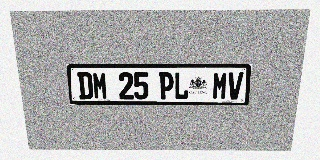2: (118, 72, 134, 99)
5: (134, 72, 149, 99)
D: (77, 72, 93, 99)
L: (174, 72, 189, 99)
M: (212, 72, 228, 100), (92, 72, 108, 99)
P: (159, 72, 174, 99)
V: (227, 72, 244, 100)
